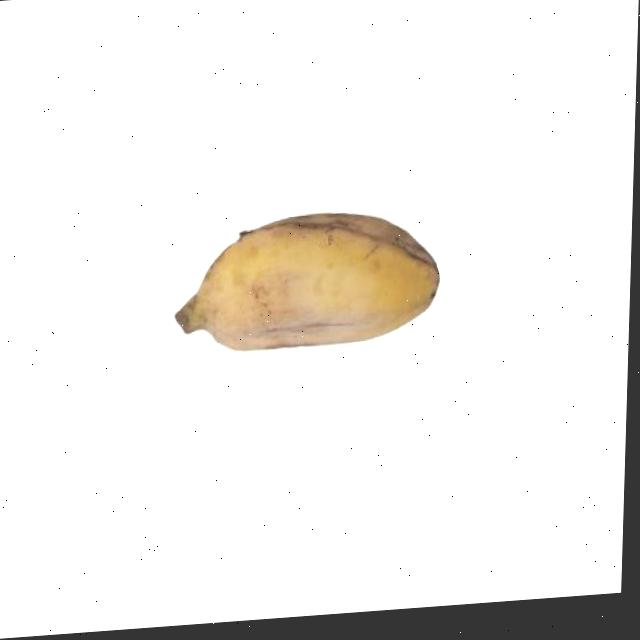banana: (162, 197, 441, 369)
